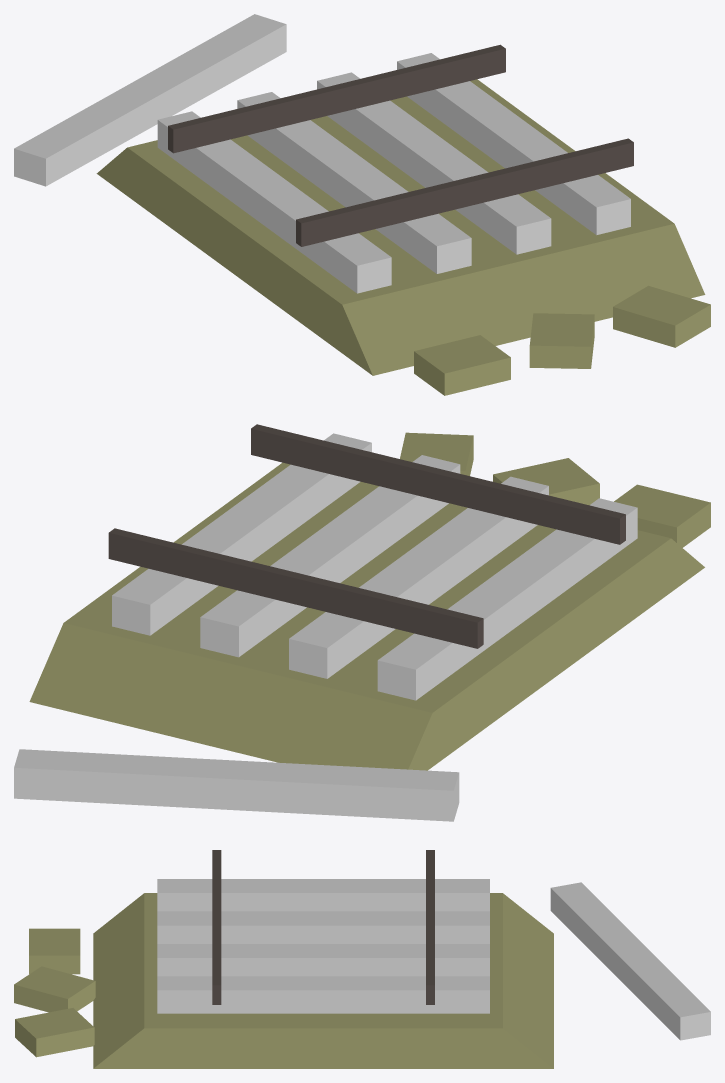
Rendered from SM_Via_Recta2_v4_Danada_LOD0.fbx.
3 views of the same model, one above another, from view 1: azimuth 30°, elevation 25°; view 2: azimuth 150°, elevation 25°; view 3: azimuth 270°, elevation 25° (orthographic). The views are drawn at different scales.
Parts seen in each view (by area): view 1: SM_via_trazado_v9_LOD0; view 2: SM_via_trazado_v9_LOD0; view 3: SM_via_trazado_v9_LOD0.
Boxes of the visible parts, <box> form: SM_via_trazado_v9_LOD0: <box>14,14,710,395</box>; SM_via_trazado_v9_LOD0: <box>14,424,710,821</box>; SM_via_trazado_v9_LOD0: <box>14,850,710,1068</box>.
Bounding box in the file's own units: 3 × 0.72 × 5.44.
